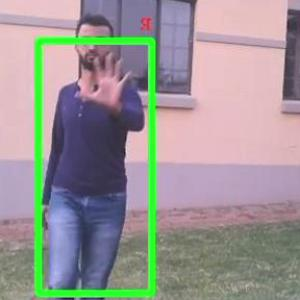follow_hand: (77, 48, 135, 112)
